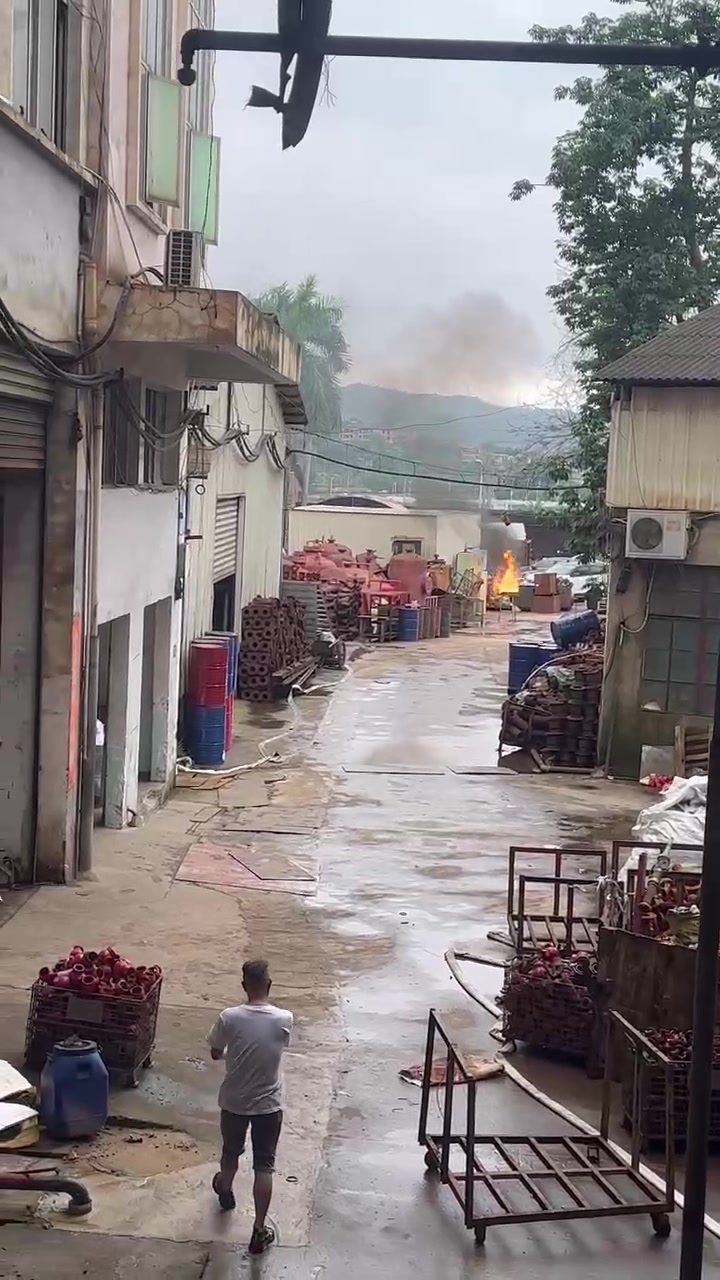fire: (494, 550, 519, 590)
